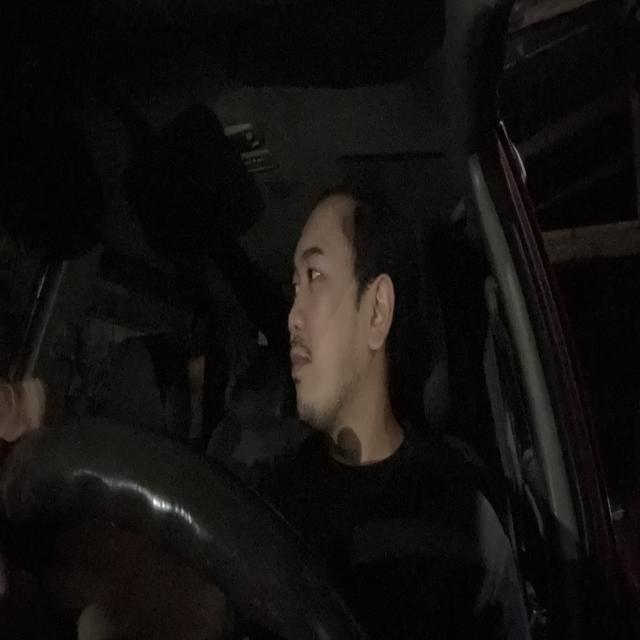open: (302, 240, 332, 297)
